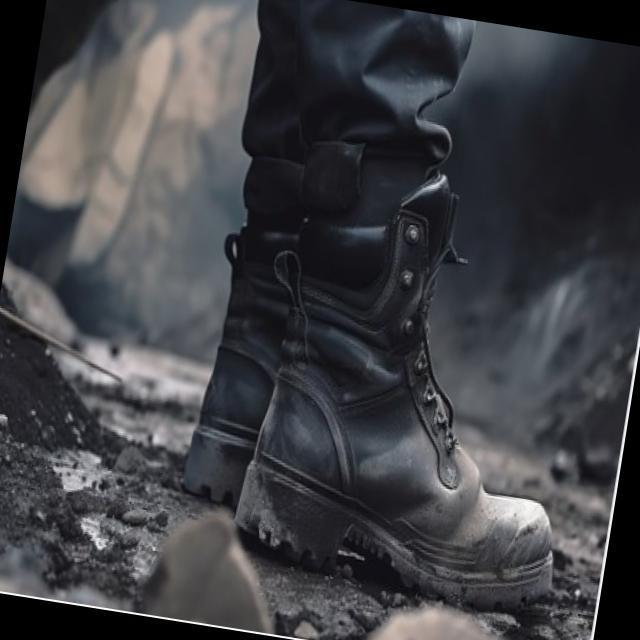shoes: (160, 117, 625, 628)
